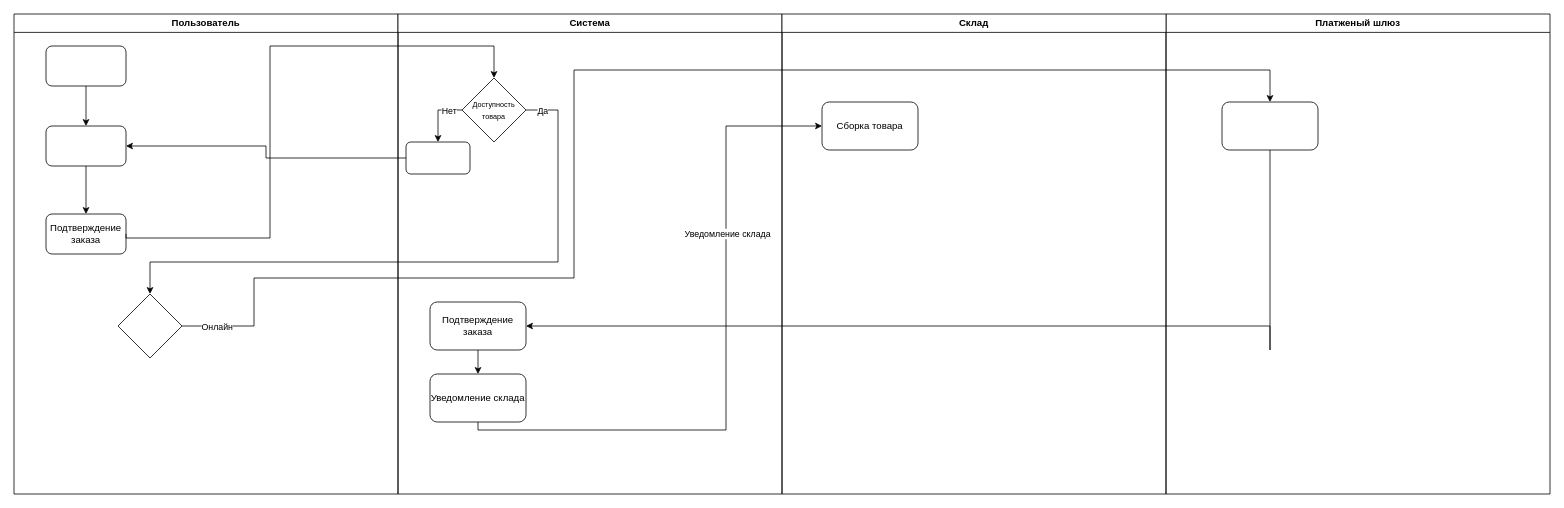
Some shapes in this 1564 by 508 pixel diagram are drawn without their labels. The shapes that lost their labels are listed below. From the top down, each one's centre as x and y in pixels, then its label:
(85,65): Вход в систему
(85,145): Выбор товара и добавление в корзину
(1269,125): Обработка платежа
(437,157): Отправка сообщения с предложением изменить корзину
(149,325): Выбор способа оплаты
